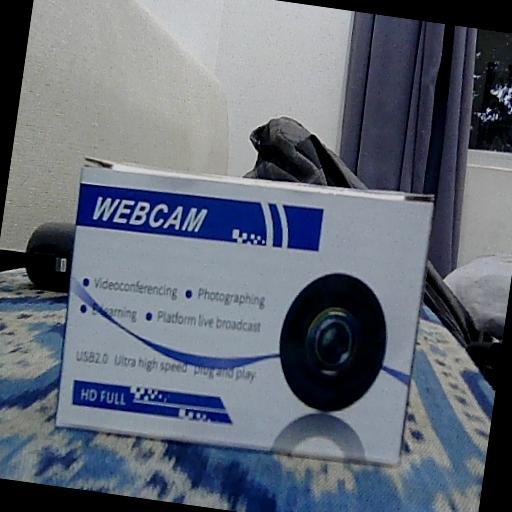webcam_box: (45, 148, 438, 475)
